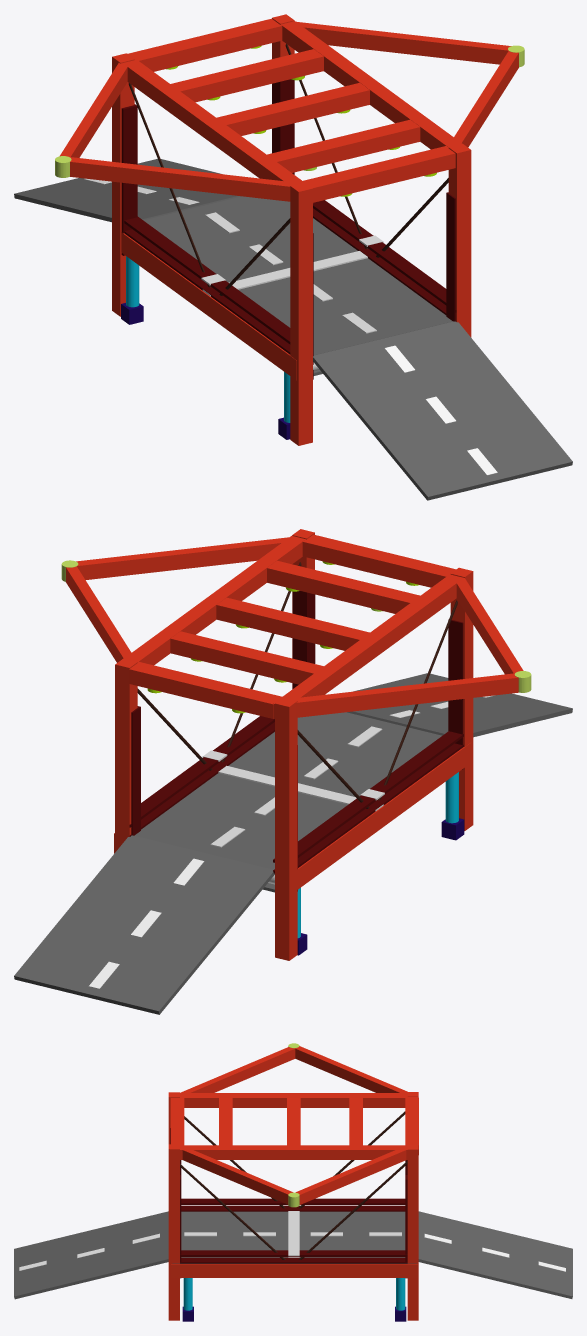
File: bridge20.glb
3 renders of one model, top to bottom at view 1: azimuth 30°, elevation 25°; view 2: azimuth 150°, elevation 25°; view 3: azimuth 270°, elevation 25°, orthographic. The views are drawn at different scales.
Visible parts, largest first — view 1: Cube.026, Cube.009, Cube.037, Cube.027, Cube.011, Cube.019, Cube.016, Cube.017, Cube.025, Cube.032, Cube.031, Cube.028 (+15 smaller); view 2: Cube.027, Cube.009, Cube.007, Cube.026, Cube.011, Cube.018, Cube.016, Cube.010, Cube.025, Cube.028, Cube.029, Cube.030 (+15 smaller); view 3: Cube.009, Cube.026, Cube.027, Cube.024, Cube.016, Cube.011, Cube.003, Cube.008, Cube.017, Cube.010, Cube.013, Cube.021 (+12 smaller).
Part boxes in pixels (x1,y1,x2,y2): Cube.026: [313, 321, 572, 500]; Cube.009: [143, 196, 452, 355]; Cube.037: [290, 182, 312, 445]; Cube.027: [14, 158, 241, 222]; Cube.011: [125, 54, 313, 203]; Cube.019: [69, 157, 297, 201]; Cube.016: [281, 21, 462, 149]; Cube.017: [296, 21, 511, 64]; Cube.025: [121, 232, 296, 380]; Cube.032: [303, 146, 455, 202]; Cube.031: [267, 119, 420, 172]; Cube.028: [127, 18, 282, 71]; Cube.027: [14, 835, 274, 1014]; Cube.009: [134, 712, 441, 874]; Cube.007: [275, 697, 297, 960]; Cube.026: [347, 673, 572, 737]; Cube.011: [273, 574, 461, 718]; Cube.018: [294, 673, 518, 717]; Cube.016: [124, 535, 305, 665]; Cube.010: [76, 537, 288, 579]; Cube.025: [297, 742, 471, 889]; Cube.028: [128, 662, 281, 718]; Cube.029: [170, 631, 323, 684]; Cube.030: [216, 597, 369, 650]; Cube.009: [172, 1211, 416, 1263]; Cube.026: [14, 1211, 168, 1299]; Cube.027: [418, 1211, 572, 1298]; Cube.024: [171, 1264, 417, 1277]; Cube.016: [169, 1145, 418, 1159]; Cube.011: [169, 1093, 418, 1107]; Cube.003: [168, 1144, 179, 1320]; Cube.008: [407, 1144, 418, 1320]; Cube.017: [295, 1150, 406, 1204]; Cube.010: [182, 1150, 293, 1204]; Cube.013: [180, 1257, 407, 1263]; Cube.021: [180, 1250, 407, 1256].
Bounding box in the file's own units: 65.12 × 34 × 99.93.
